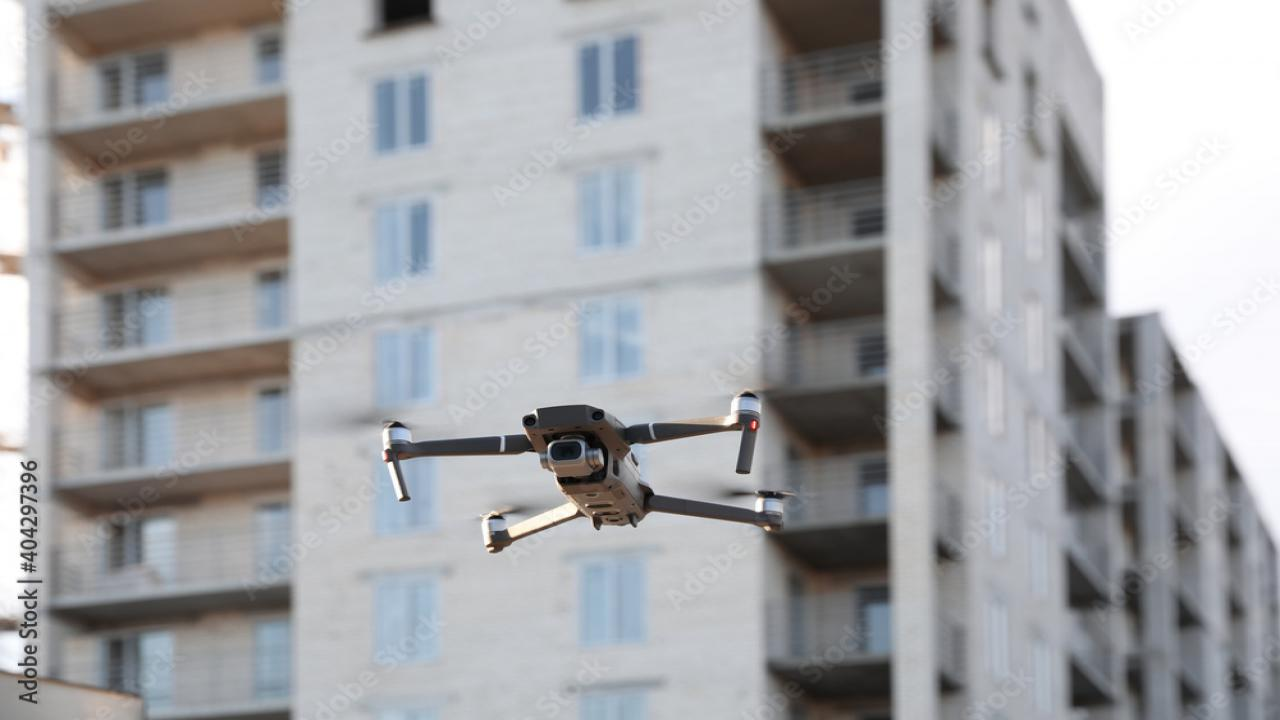Drone: (321, 365, 837, 573)
